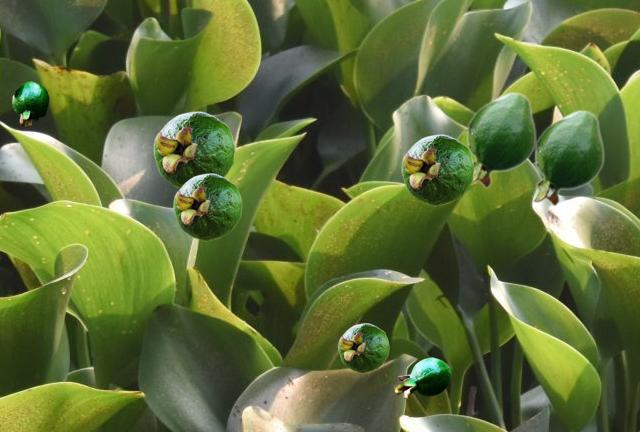guava: (532, 109, 603, 206), (464, 91, 535, 188), (153, 111, 234, 188), (401, 134, 473, 205), (173, 173, 241, 240), (338, 323, 388, 372), (393, 357, 450, 398), (12, 81, 48, 126)
